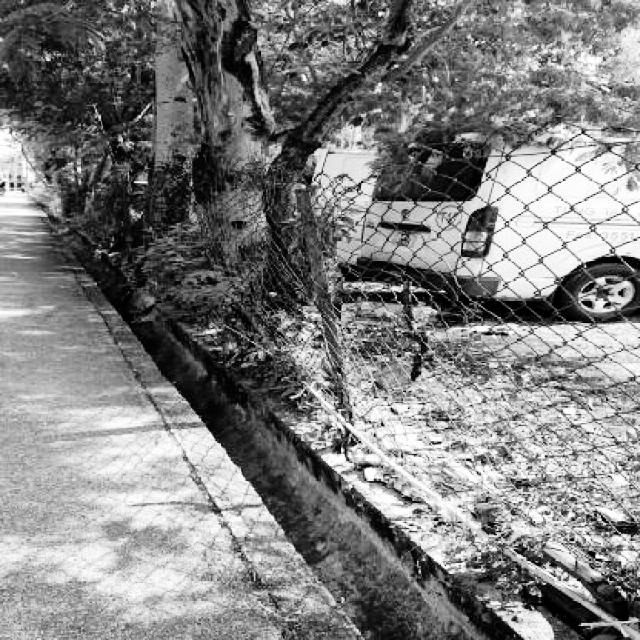anomaly-fence: (166, 120, 316, 402)
